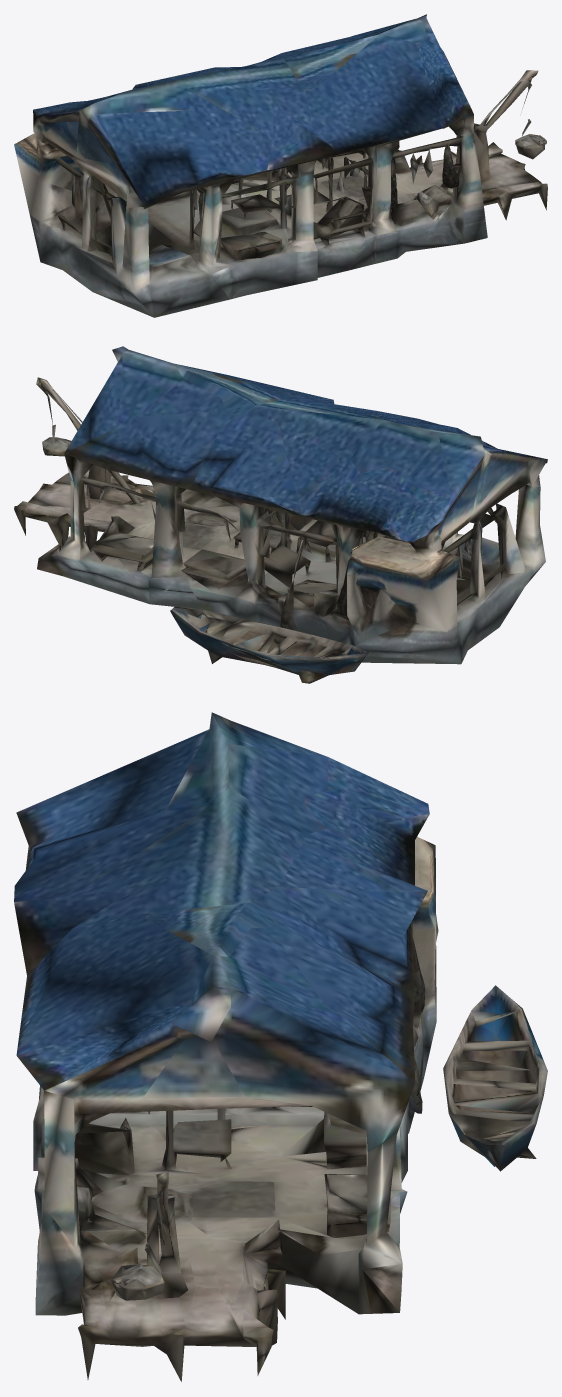
Rendered from fishing_hut_2.glb.
The picture shows the model from 3 angles, top to bottom: view 1: azimuth 30°, elevation 25°; view 2: azimuth 150°, elevation 25°; view 3: azimuth 270°, elevation 25°; orthographic projection. The views are drawn at different scales.
Visible parts, largest first — view 1: tripo_node_d9f5a890-0c20-4da9-9cfe-7d27fd147d65; view 2: tripo_node_d9f5a890-0c20-4da9-9cfe-7d27fd147d65; view 3: tripo_node_d9f5a890-0c20-4da9-9cfe-7d27fd147d65.
Part boxes in pixels (x1=…): tripo_node_d9f5a890-0c20-4da9-9cfe-7d27fd147d65: x1=14, y1=14, x2=547, y2=317; tripo_node_d9f5a890-0c20-4da9-9cfe-7d27fd147d65: x1=14, y1=346, x2=547, y2=683; tripo_node_d9f5a890-0c20-4da9-9cfe-7d27fd147d65: x1=14, y1=712, x2=547, y2=1381.
Bounding box in the file's own units: 0.9742 × 0.3919 × 0.5816.
1 material, 1 textured.
